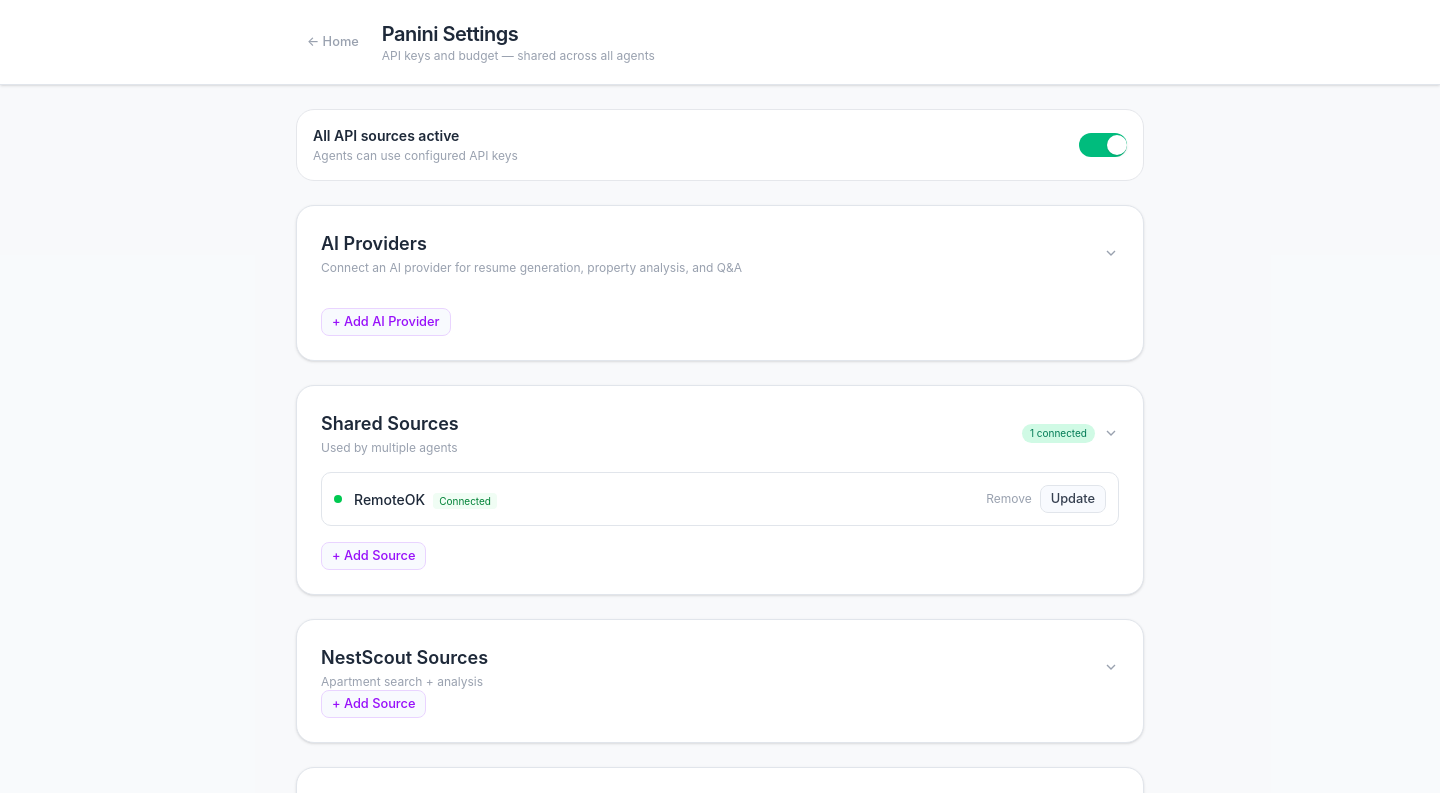
Test: Custom Job Sources in Settings › clicking Add Source shows name and display name inputs
Expected: the text "RemoteOK" is shown, left=354, top=491, right=425, bottom=508
Click the button "+ Add Source" below "RemoteOK": (374, 556) left=321, top=542, right=426, bottom=570
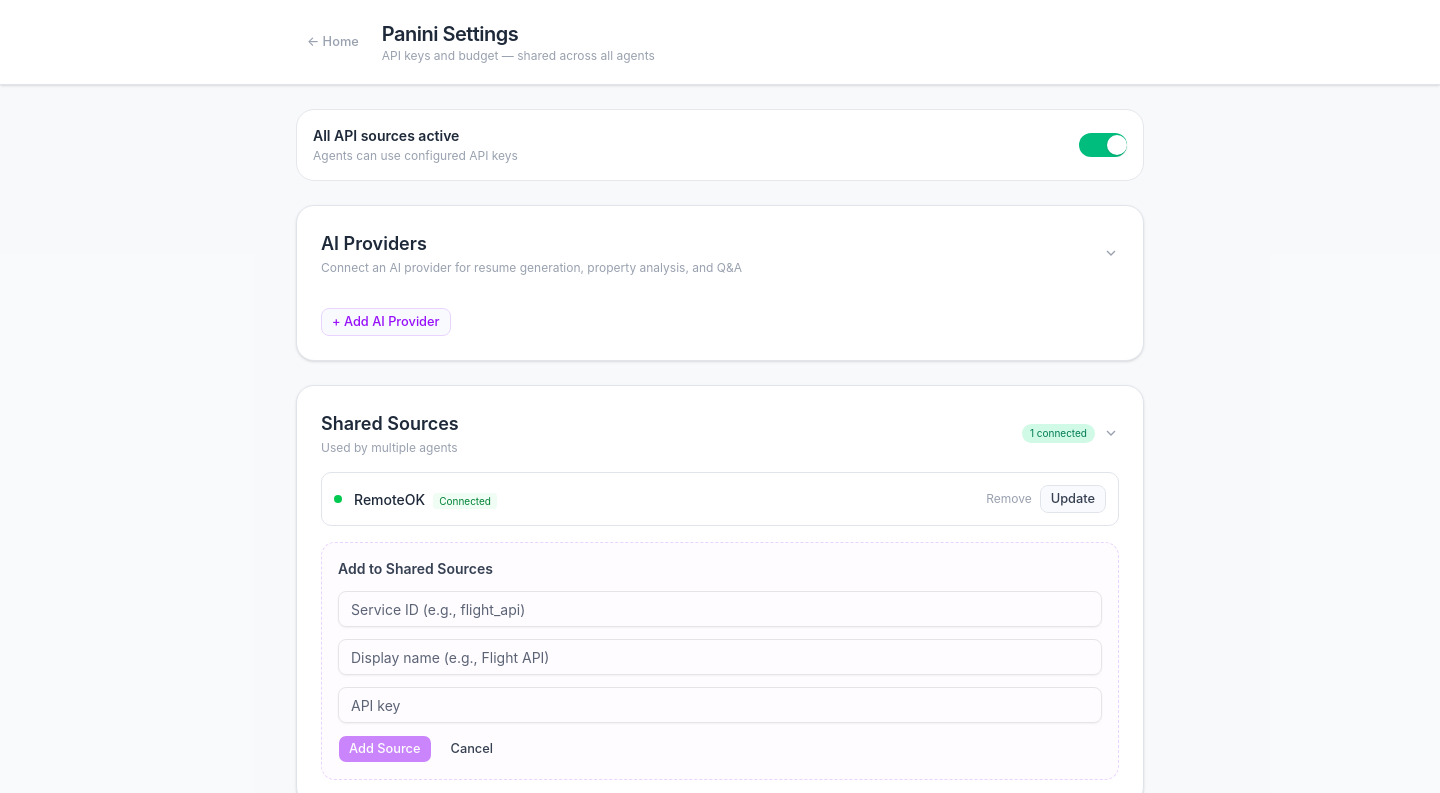
Expected: the field with placeholder "Service ID (e.g., flight_api)" is shown, left=338, top=591, right=1102, bottom=627
Expected: the field with placeholder "Display name (e.g., Flight API)" is shown, left=338, top=639, right=1102, bottom=675
